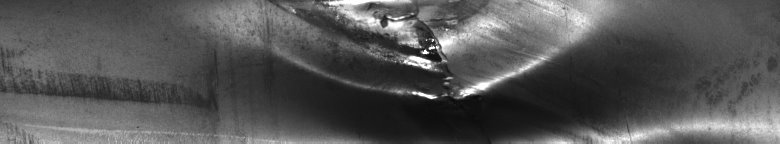ke: (277, 4, 690, 136)
